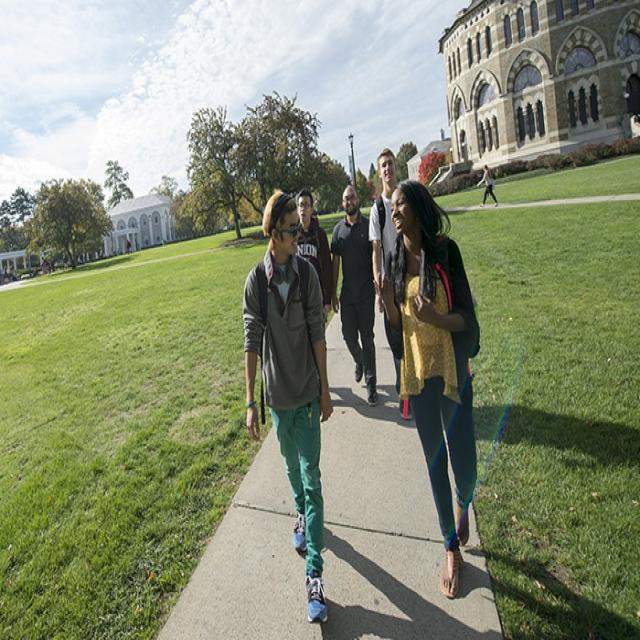body: (371, 174, 482, 599), (240, 185, 334, 626), (367, 147, 414, 420), (328, 182, 380, 408), (292, 186, 336, 422), (476, 162, 498, 207)
